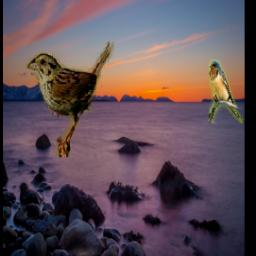Sparrow: (26, 43, 114, 158)
Swallow: (209, 61, 243, 125)
